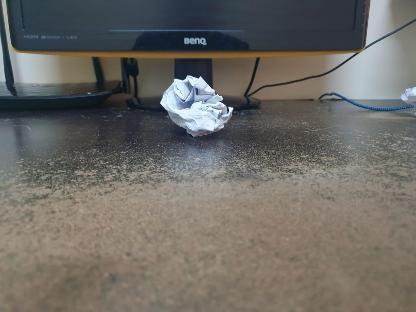Paper: (160, 75, 236, 139)
